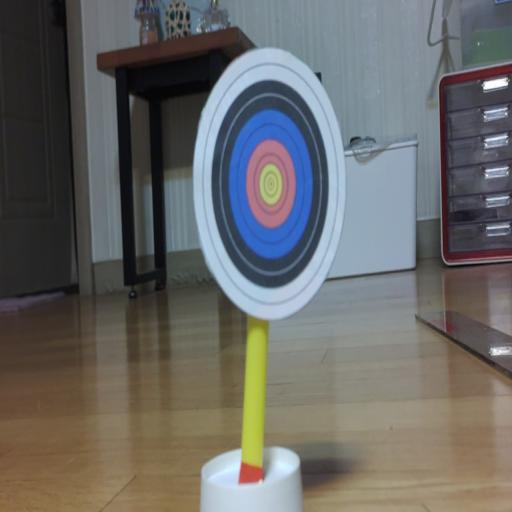target: (194, 48, 346, 319)
